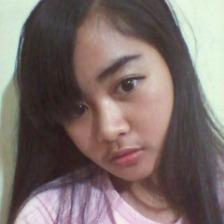Non hijab: (7, 0, 224, 224)
